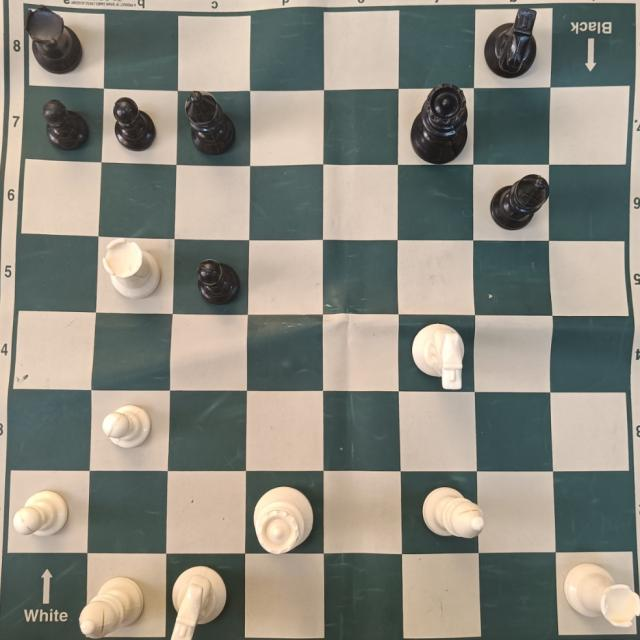black-bishop: (491, 172, 549, 230), (184, 92, 238, 154)
black-knight: (483, 7, 539, 78)
black-pawn: (44, 95, 87, 151), (114, 98, 157, 151), (196, 258, 240, 308)
black-queen: (410, 82, 470, 164)
black-rook: (25, 7, 84, 75)
board: (0, 0, 640, 640)
white-bishop: (80, 576, 145, 637), (422, 485, 486, 539)
white-knight: (172, 566, 228, 640), (414, 320, 467, 391)
white-pawn: (14, 489, 69, 540), (103, 401, 153, 449)
white-queen: (255, 485, 314, 553)
white-rook: (561, 560, 640, 628), (102, 236, 162, 299)
